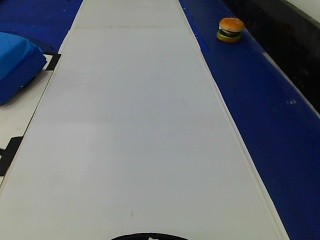burger: (207, 8, 247, 45)
